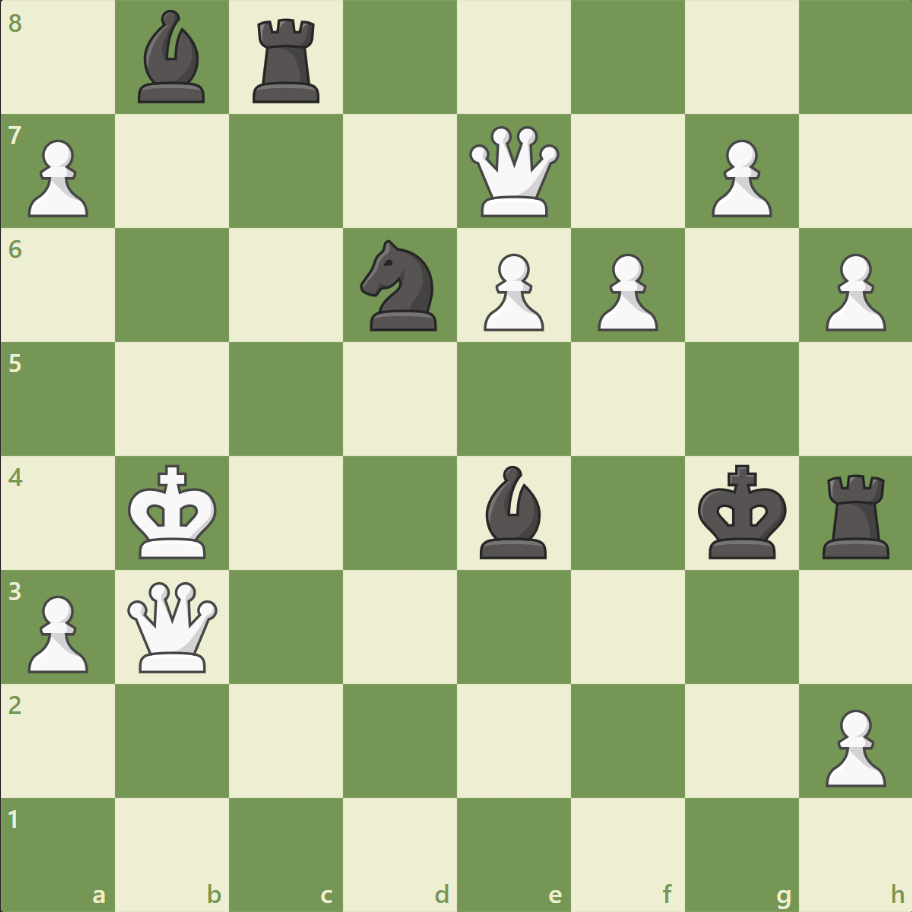K: (124, 458, 224, 566)
P: (20, 132, 95, 223), (701, 132, 776, 223), (474, 246, 549, 337), (20, 586, 95, 677), (588, 246, 662, 337), (815, 246, 889, 337), (815, 700, 889, 791)
Q: (464, 122, 563, 222), (124, 576, 223, 676)
b: (131, 6, 215, 109), (471, 460, 555, 563)
k: (692, 458, 792, 566)
n: (351, 234, 449, 337)
r: (246, 12, 329, 109), (814, 466, 897, 563)
